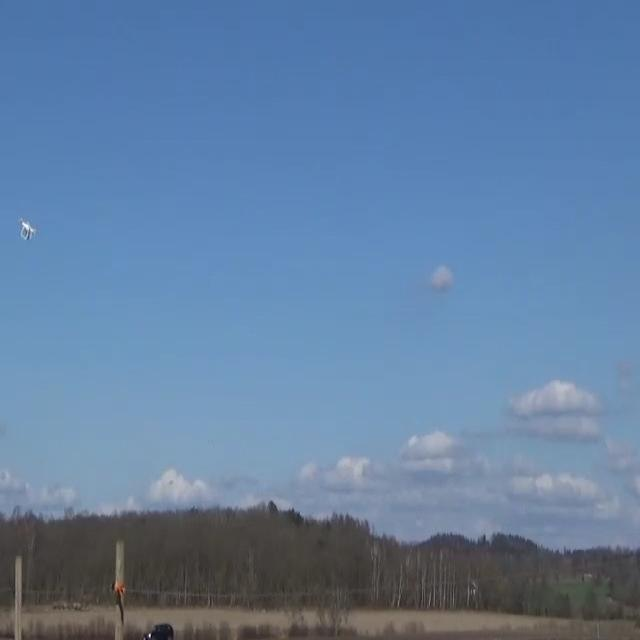drone: (18, 216, 36, 240)
